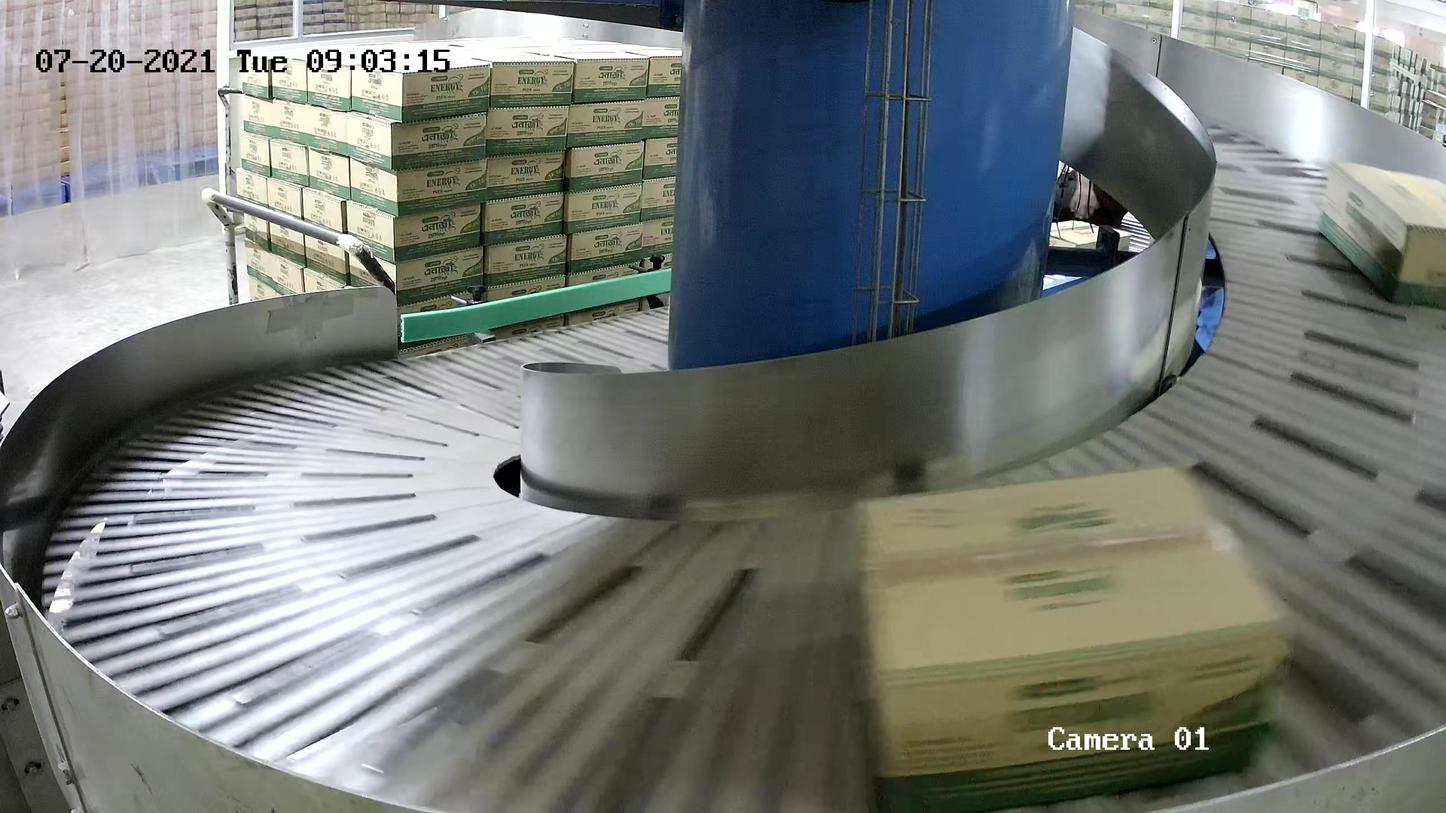Box: (846, 462, 1285, 813), (1317, 157, 1446, 314)
